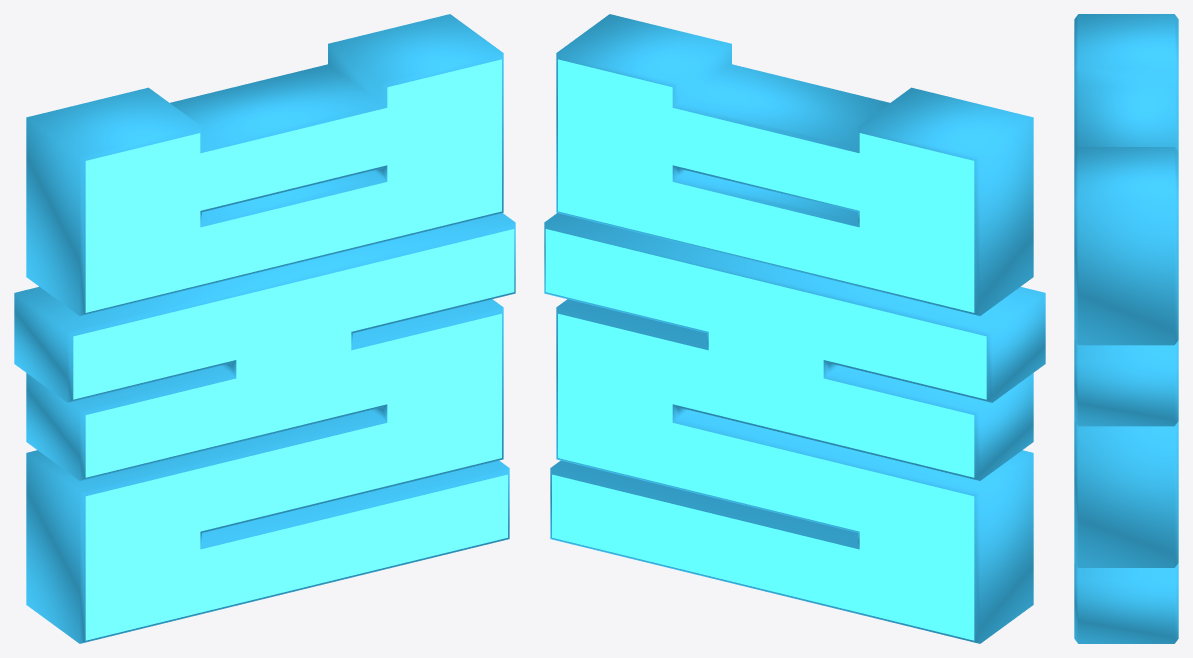
3 renders of one model, left to right at view 1: azimuth 30°, elevation 25°; view 2: azimuth 150°, elevation 25°; view 3: azimuth 270°, elevation 25°, orthographic. The views are drawn at different scales.
Visible parts, largest first — view 1: glyph; view 2: glyph; view 3: glyph.
Boxes of the visible parts, x1,y1,x2,y2 form: glyph: (14,14,515,643); glyph: (544,14,1045,643); glyph: (1074,14,1178,643).
Size of the model in its own units: 0.0728 by 0.0757 by 0.0162.
